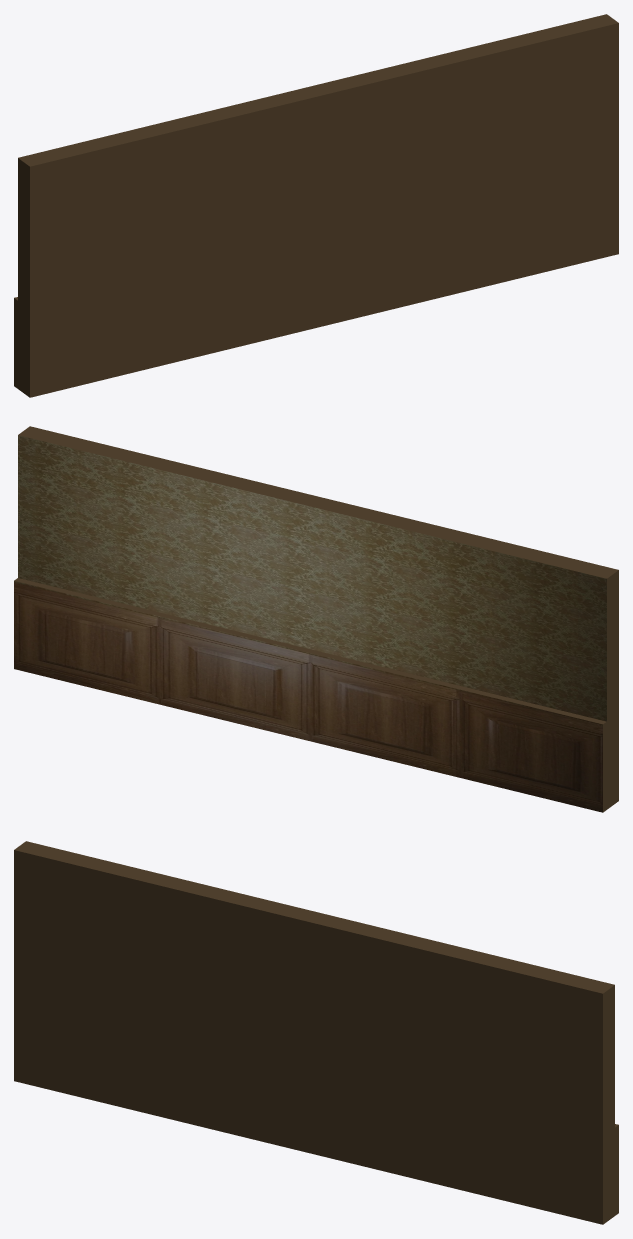
The picture shows the model from 3 angles, top to bottom: view 1: azimuth 30°, elevation 25°; view 2: azimuth 150°, elevation 25°; view 3: azimuth 330°, elevation 25°; orthographic projection.
Visible parts, largest first — view 1: Cube.006; view 2: Cube.006; view 3: Cube.006.
Part boxes in pixels (left/top/right/bottom): Cube.006: left=14, top=14, right=618, bottom=397; Cube.006: left=14, top=426, right=618, bottom=812; Cube.006: left=14, top=841, right=618, bottom=1224.
Size of the model in its own units: 533 by 200 by 25.09.
Materials: 2 (1 with a texture image).
